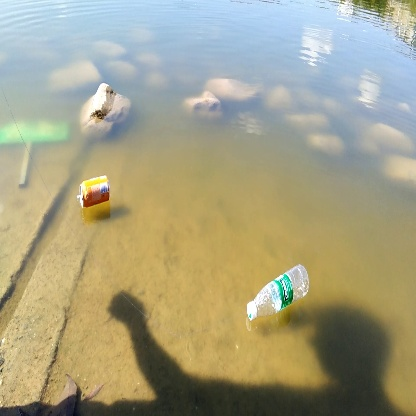bottle: (246, 261, 313, 331), (70, 172, 121, 217)
